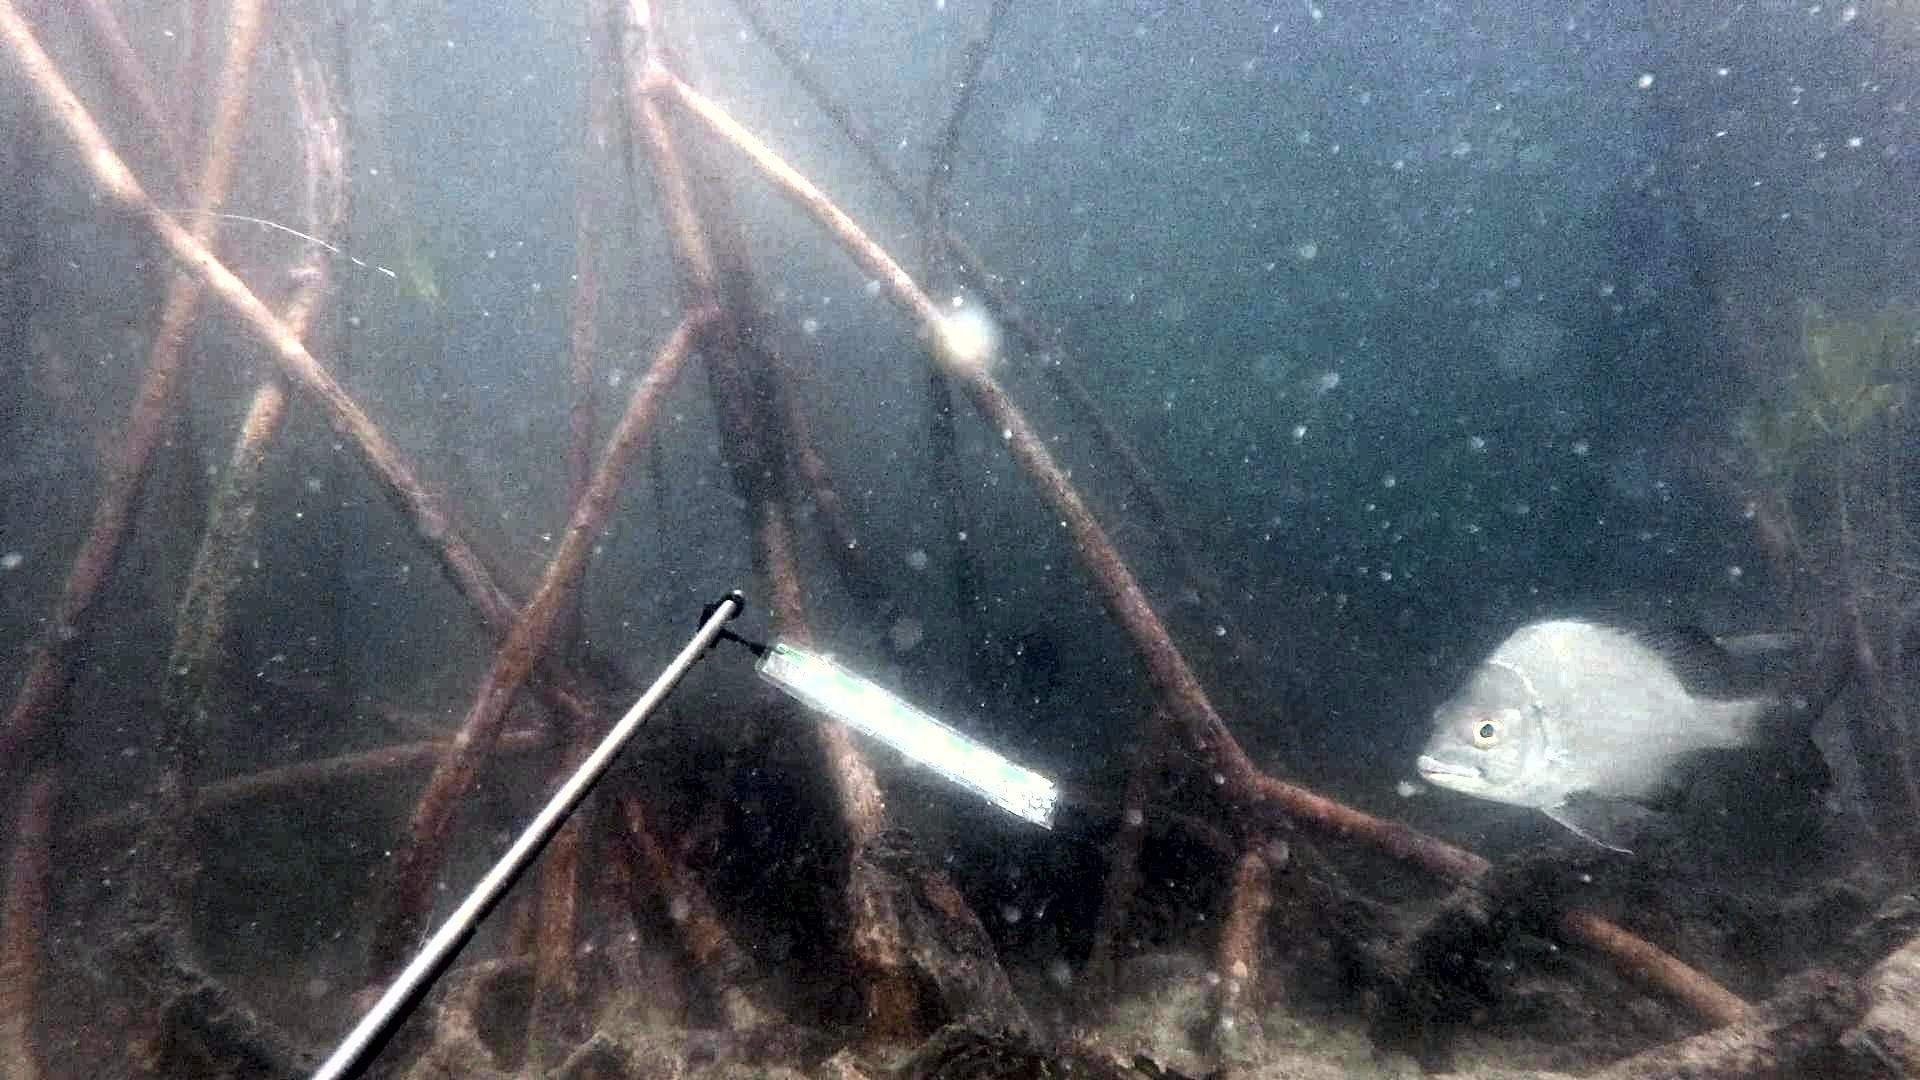acanthopagrus palmaris: (1403, 596, 1863, 872)
